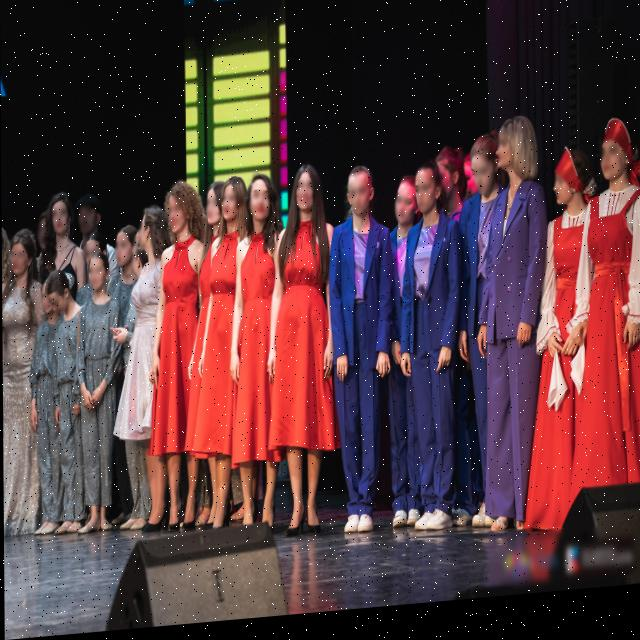Person: (328, 164, 390, 562), (586, 118, 640, 529), (402, 160, 459, 543), (282, 162, 339, 545), (491, 116, 543, 534), (542, 148, 595, 540), (466, 134, 514, 564), (157, 181, 211, 533), (240, 166, 289, 544), (386, 175, 431, 546), (72, 251, 126, 543), (1, 218, 45, 550), (213, 171, 248, 535), (133, 208, 172, 521), (32, 277, 70, 565), (48, 272, 87, 548), (36, 184, 81, 305), (115, 218, 146, 321), (110, 217, 139, 304), (73, 229, 113, 275), (73, 184, 101, 239), (33, 199, 51, 261)
